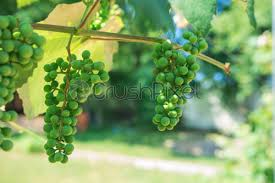grapes: (44, 55, 95, 166), (152, 36, 199, 138), (3, 25, 37, 103)
